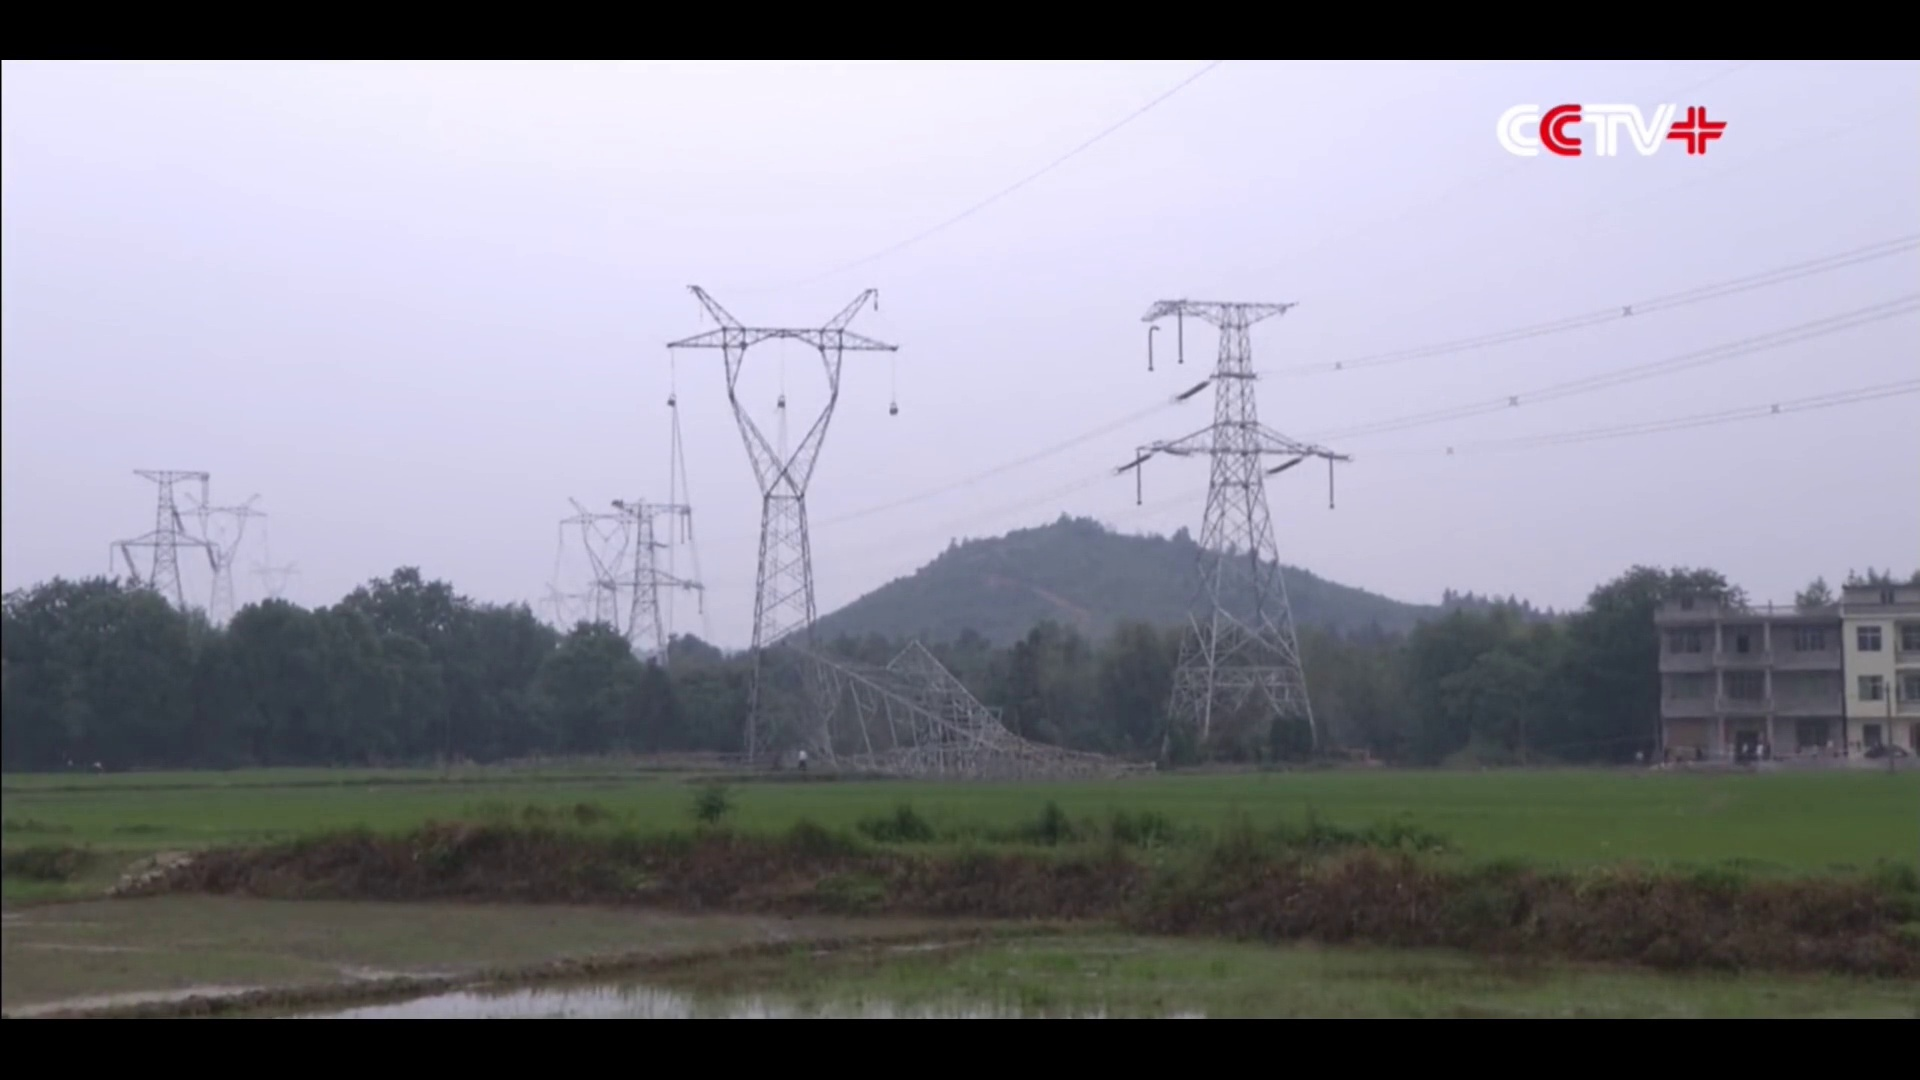tower_down: (795, 634, 1127, 799)
tower_up: (1121, 270, 1369, 771), (676, 273, 887, 781)
